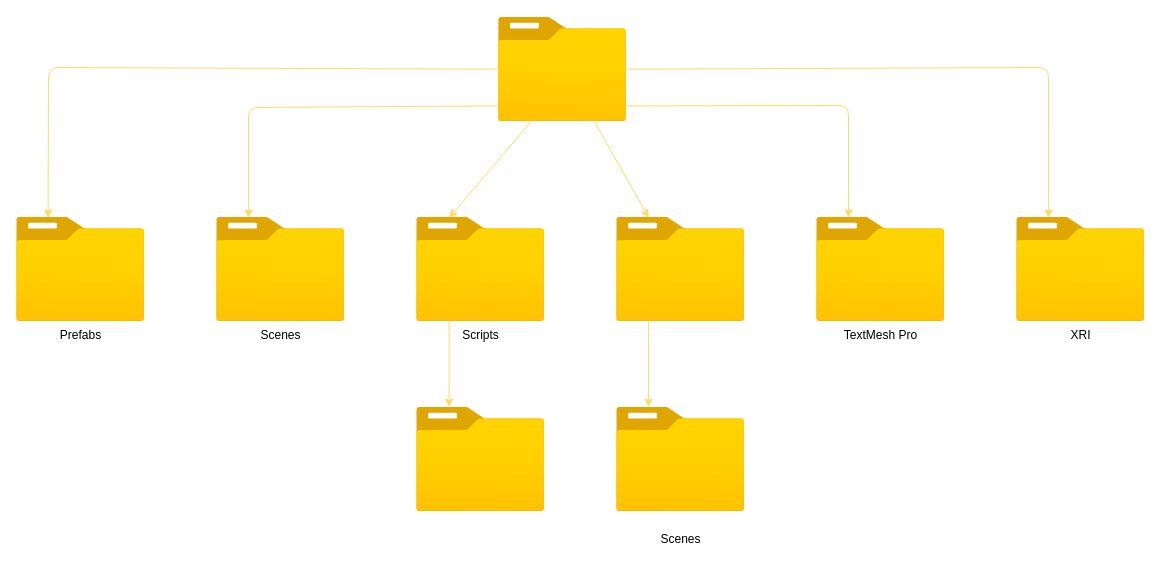
The diagram is 1163 pixels wide and 564 high, and some of its shapes have lost their labels. Each missing label, with the centre of its shape:
"Assets" belongs at [562,69].
"Settings" belongs at [680,269].
"Twiney" belongs at [480,459].
